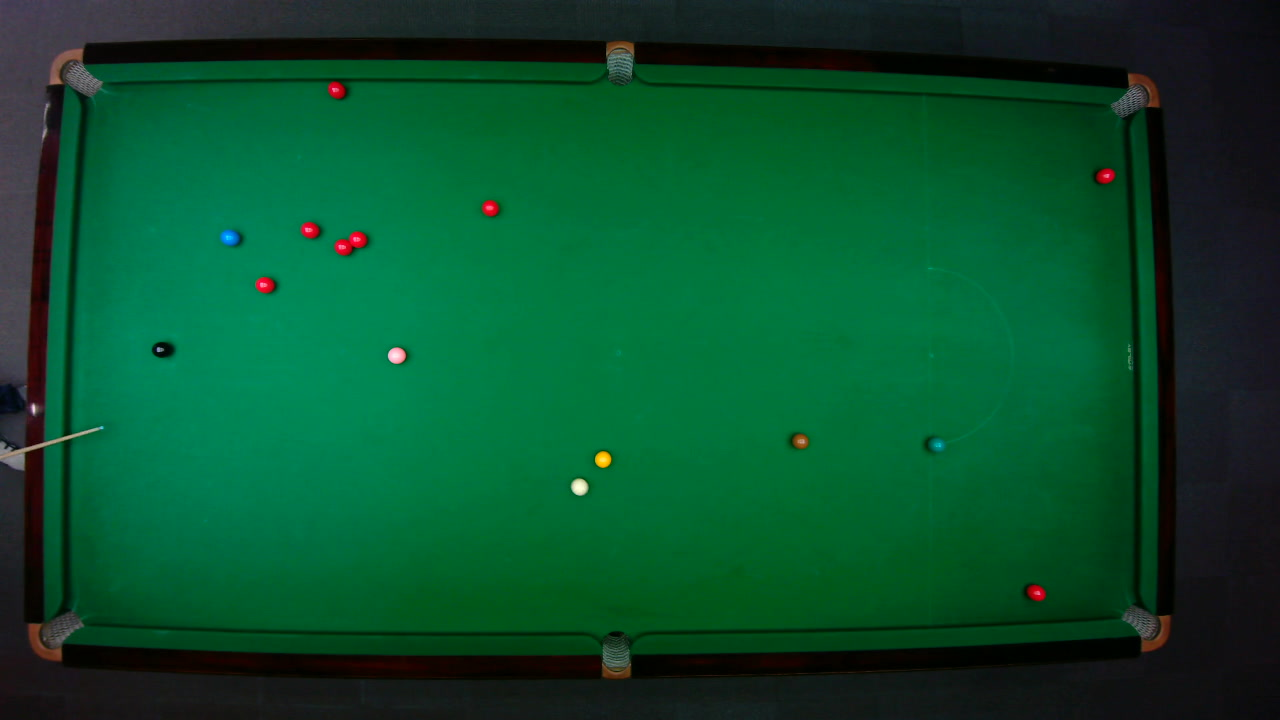bag: (26, 609, 84, 661), (47, 47, 103, 97), (1119, 603, 1171, 651), (1108, 72, 1160, 118), (601, 629, 630, 679), (605, 39, 633, 86)
black: (150, 340, 172, 358)
blue: (219, 228, 240, 246)
brown: (790, 432, 809, 449)
cue: (0, 422, 107, 460)
green: (926, 435, 945, 453)
pink: (386, 345, 406, 364)
red: (1024, 582, 1046, 601), (332, 236, 354, 255), (1093, 166, 1116, 184), (347, 229, 368, 248), (299, 220, 320, 239), (326, 80, 346, 99), (479, 198, 499, 217), (254, 275, 275, 293)
white: (569, 476, 589, 496)
yellow: (593, 449, 612, 468)
zone: (926, 265, 1013, 444)
